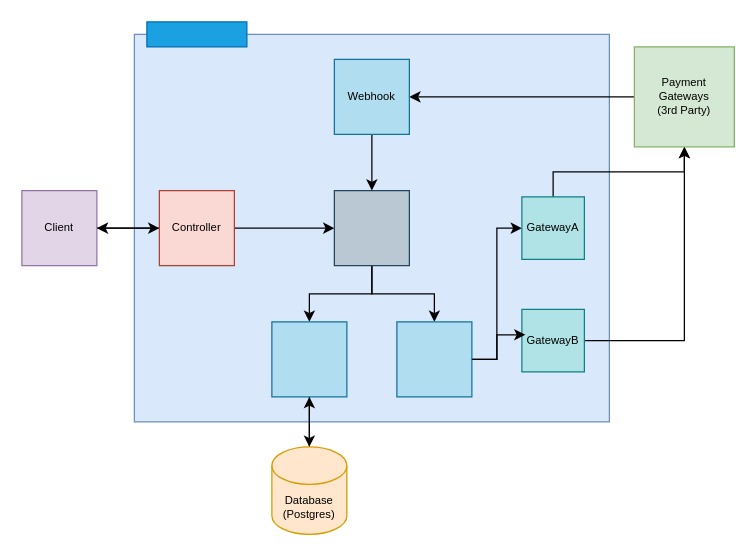
The diagram is 756 pixels wide and 556 high, and some of its shapes have lost their labels. Here are the shapes that lost their labels. From the top down, the box of each, then its label:
(146, 21, 247, 47): Go Service
(333, 189, 409, 266): Service
(271, 321, 347, 397): Repository
(396, 321, 472, 397): Gateway Factory
